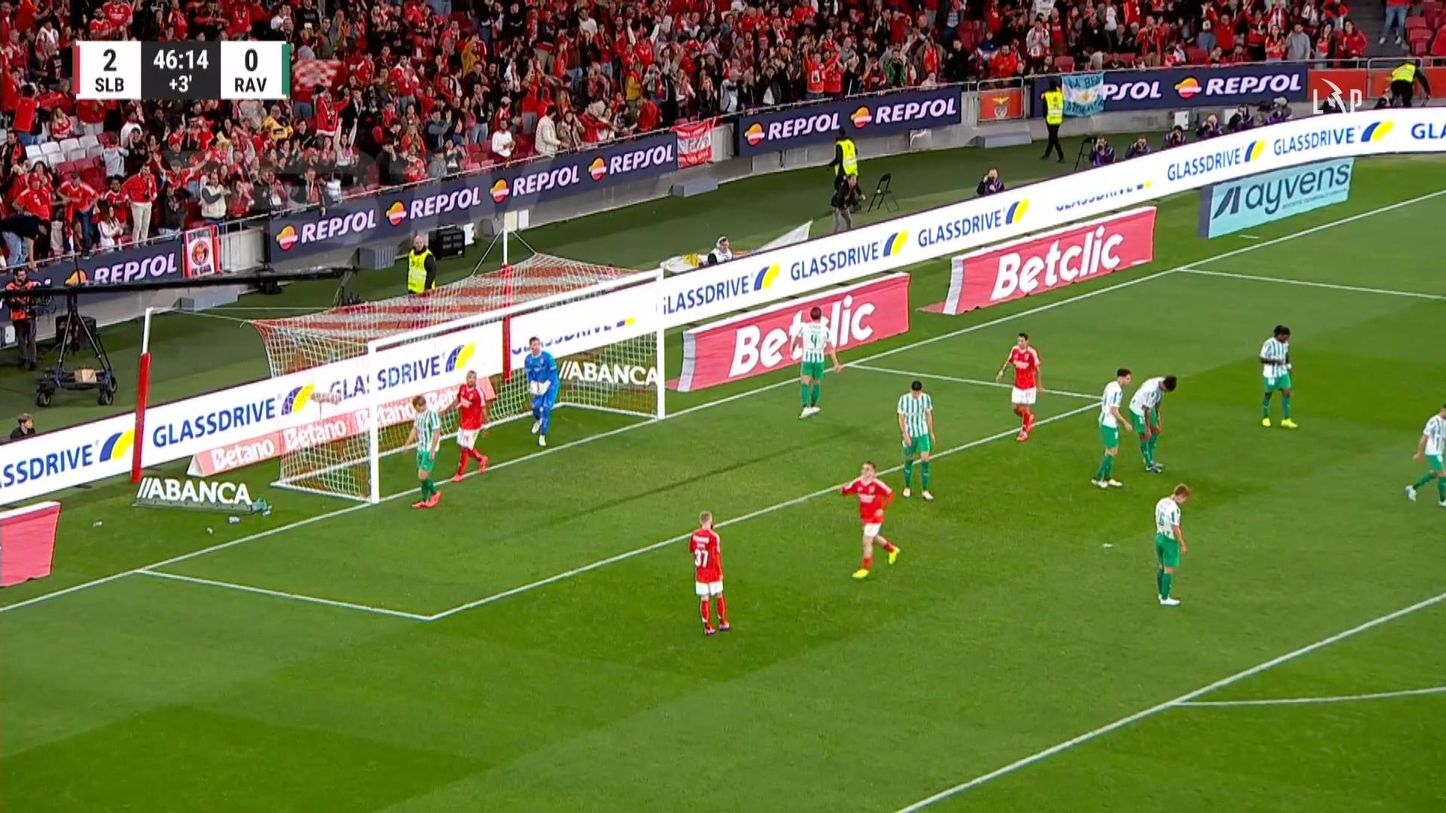goalkeeper: (523, 336, 560, 446)
player: (840, 460, 900, 579), (789, 305, 843, 419), (443, 369, 492, 482), (995, 331, 1044, 441), (688, 510, 731, 635), (1090, 367, 1133, 488), (895, 379, 936, 500), (1128, 374, 1176, 473), (1153, 483, 1191, 606), (402, 394, 442, 508), (1403, 402, 1444, 506), (1258, 324, 1298, 428)
